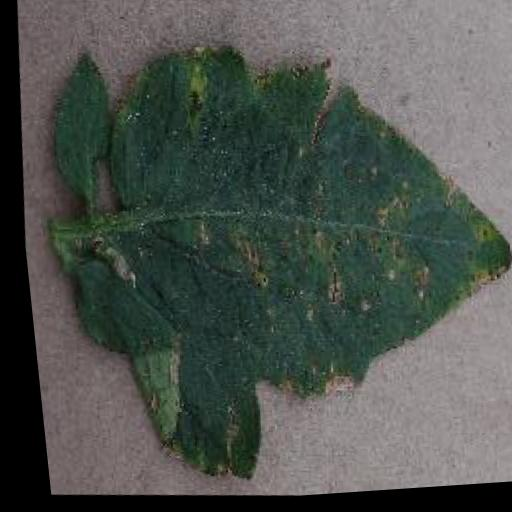Bacterial Spot: (11, 12, 512, 512)
